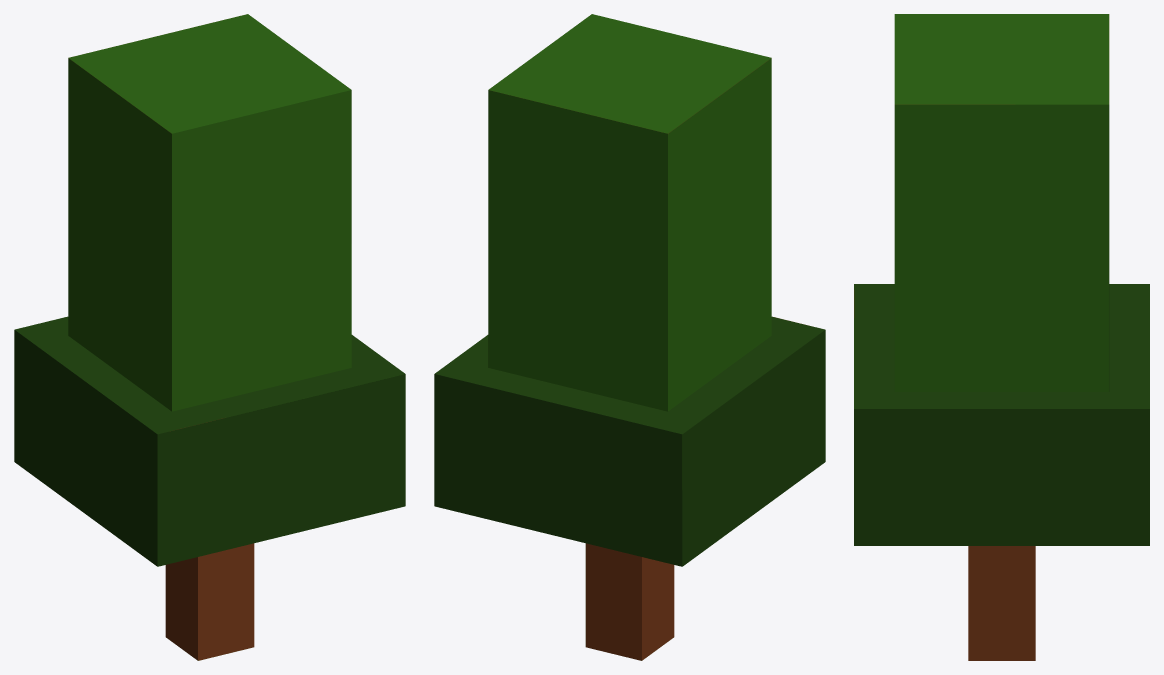
Rendered from tree1.fbx.
3 views of the same model, side by side, from view 1: azimuth 30°, elevation 25°; view 2: azimuth 150°, elevation 25°; view 3: azimuth 270°, elevation 25° (orthographic). The views are drawn at different scales.
Visible parts, largest first — view 1: tree1; view 2: tree1; view 3: tree1.
Part boxes in pixels (x1,y1,x2,y2): tree1: (14,14,405,660); tree1: (434,14,825,660); tree1: (854,14,1149,660).
Bounding box in the file's own units: 169 × 371 × 169.
1 material, 1 textured.
